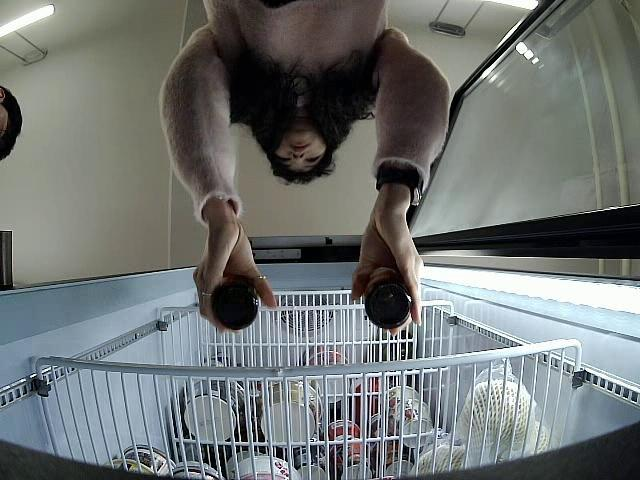17_vita500: (362, 270, 412, 330), (212, 281, 260, 330)
